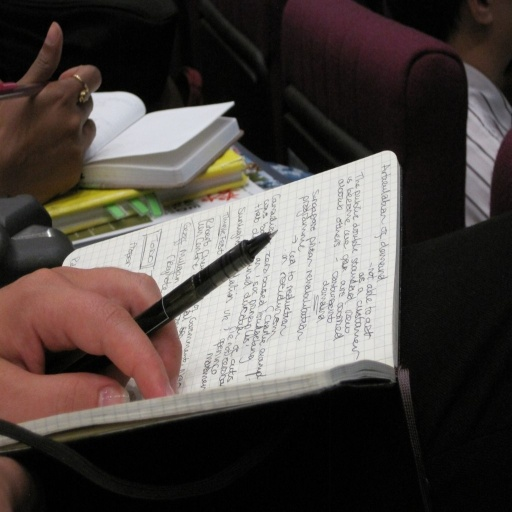hand: (0, 263, 183, 426), (0, 18, 103, 207), (0, 456, 37, 511)
